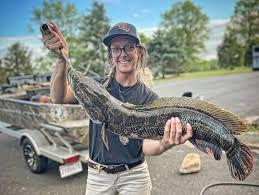Snakehead: (63, 65, 259, 188)
